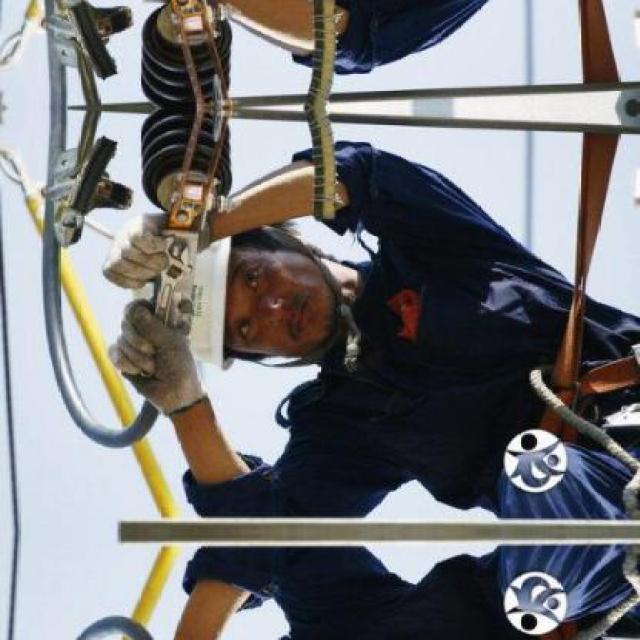helmet: (129, 199, 342, 364)
